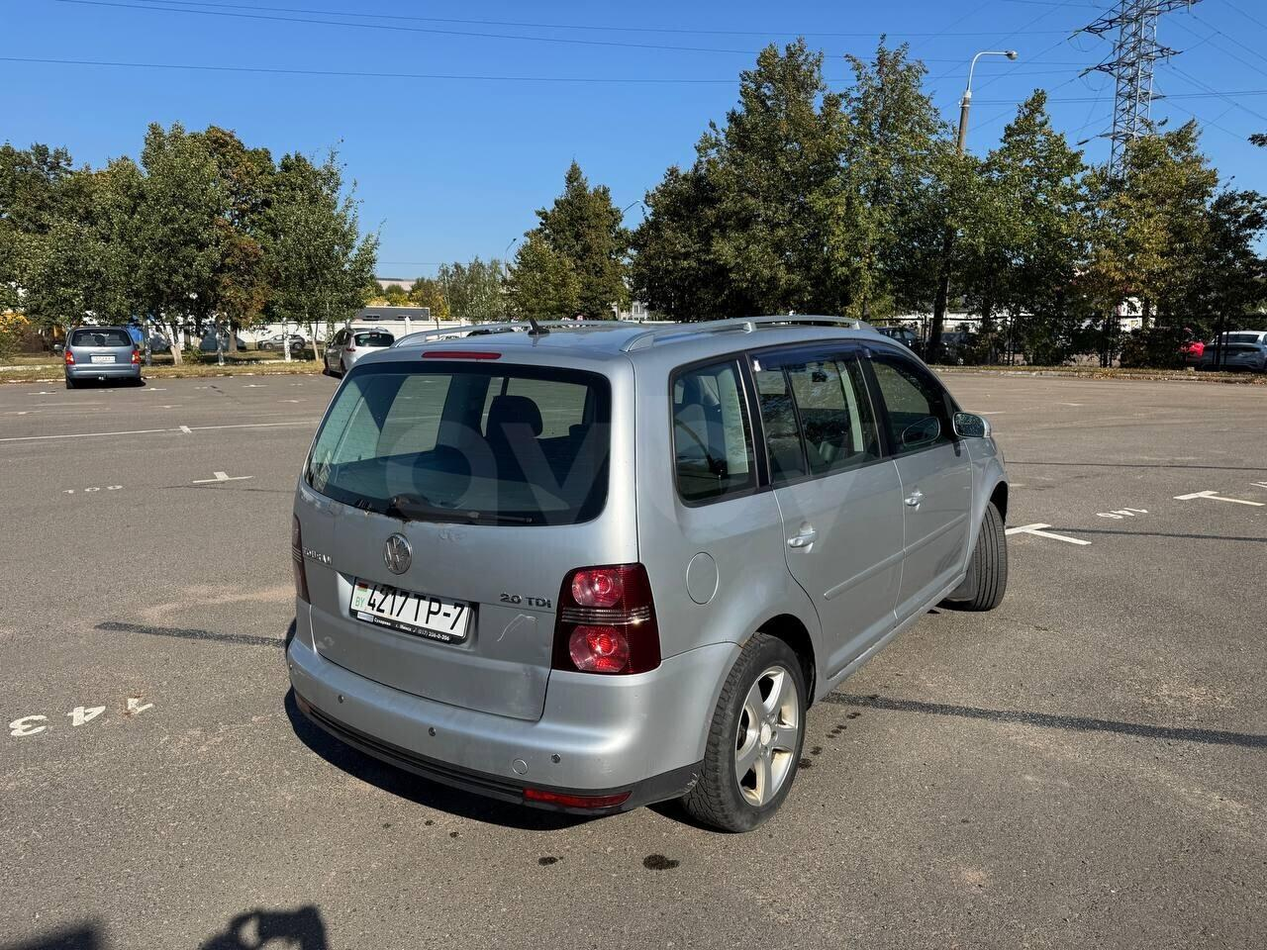Touran_2006-2010: (275, 317, 1015, 830)
